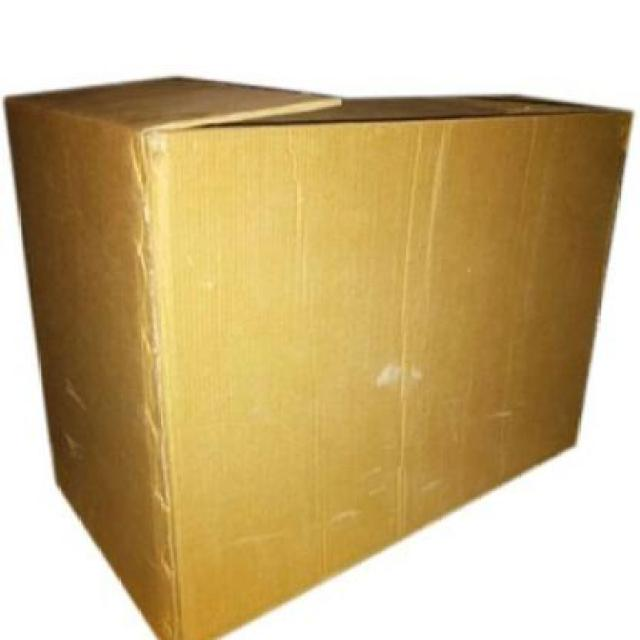box: (1, 61, 632, 640)
